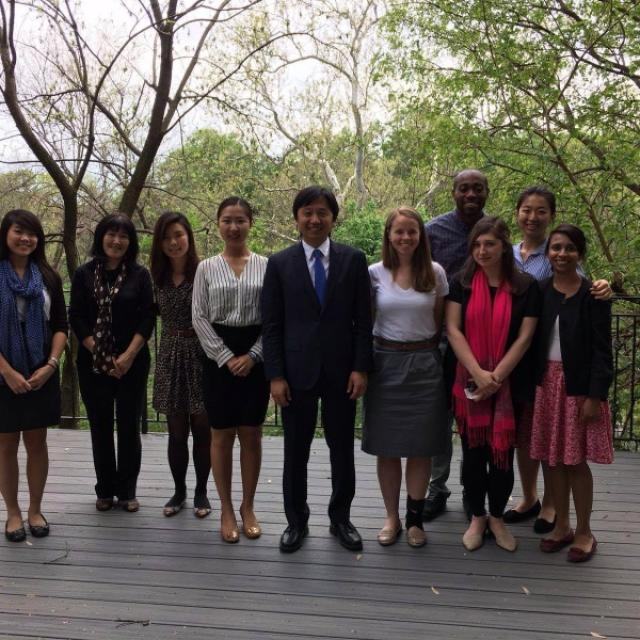body: (258, 184, 378, 554), (500, 187, 614, 534), (408, 166, 506, 524), (442, 213, 544, 555), (355, 204, 450, 549), (61, 209, 160, 514), (529, 222, 616, 565), (190, 195, 270, 543), (0, 206, 74, 546), (148, 209, 215, 518)
